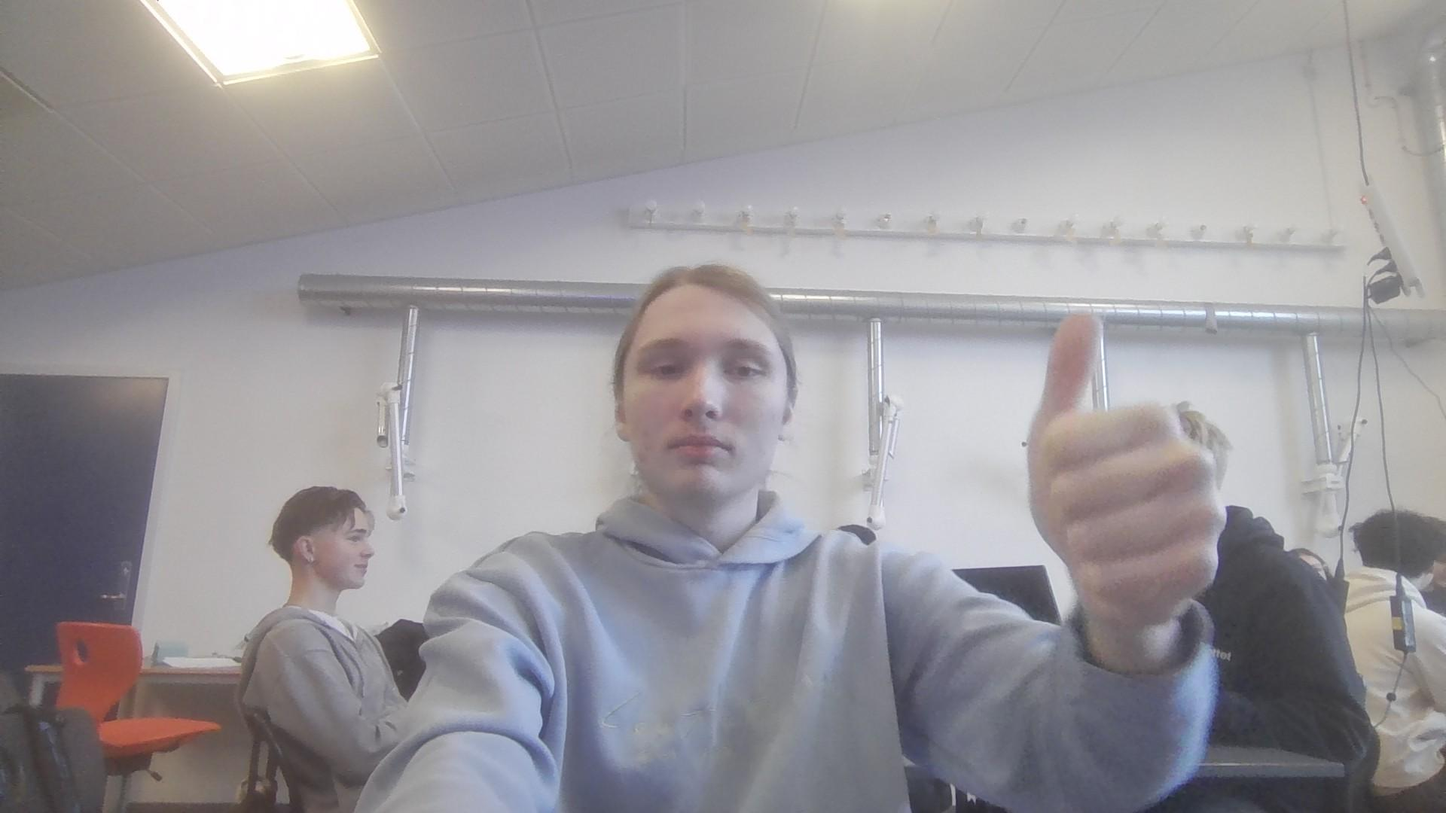thumbs up: (1017, 309, 1228, 606)
